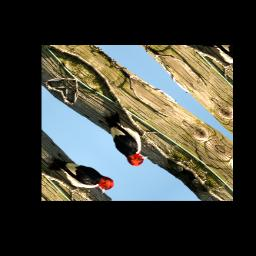Woodpecker: (86, 105, 165, 169)
